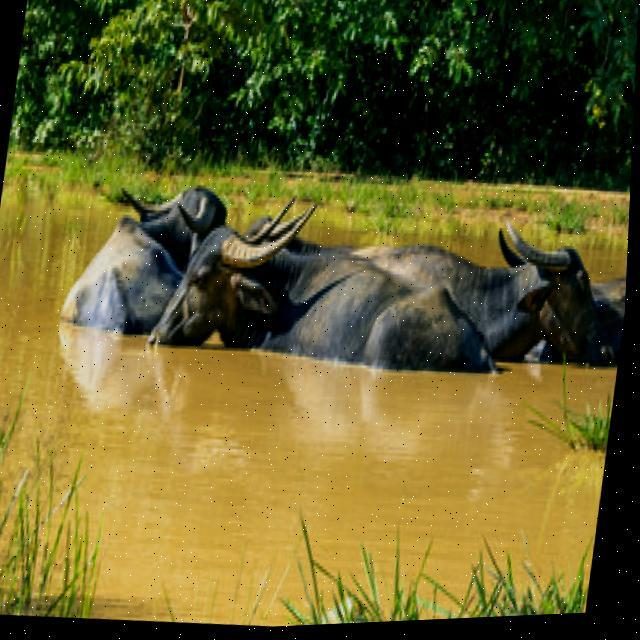Buffalo: (142, 182, 515, 389)
